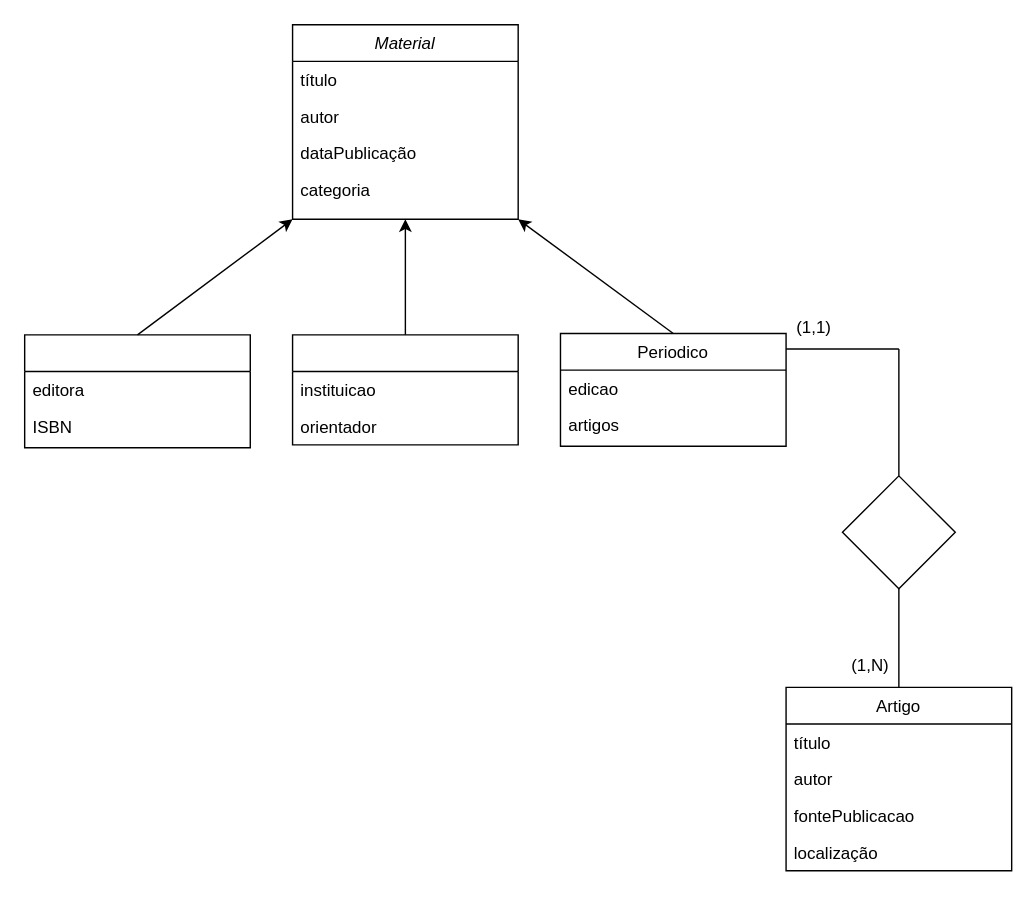
Image size: 1036x900. Some labels were removed from this diagram. Each missing label, with the box of its shape:
ObraLiterária: (23, 333, 250, 448)
TrabalhoAcadêmico: (291, 333, 518, 445)
